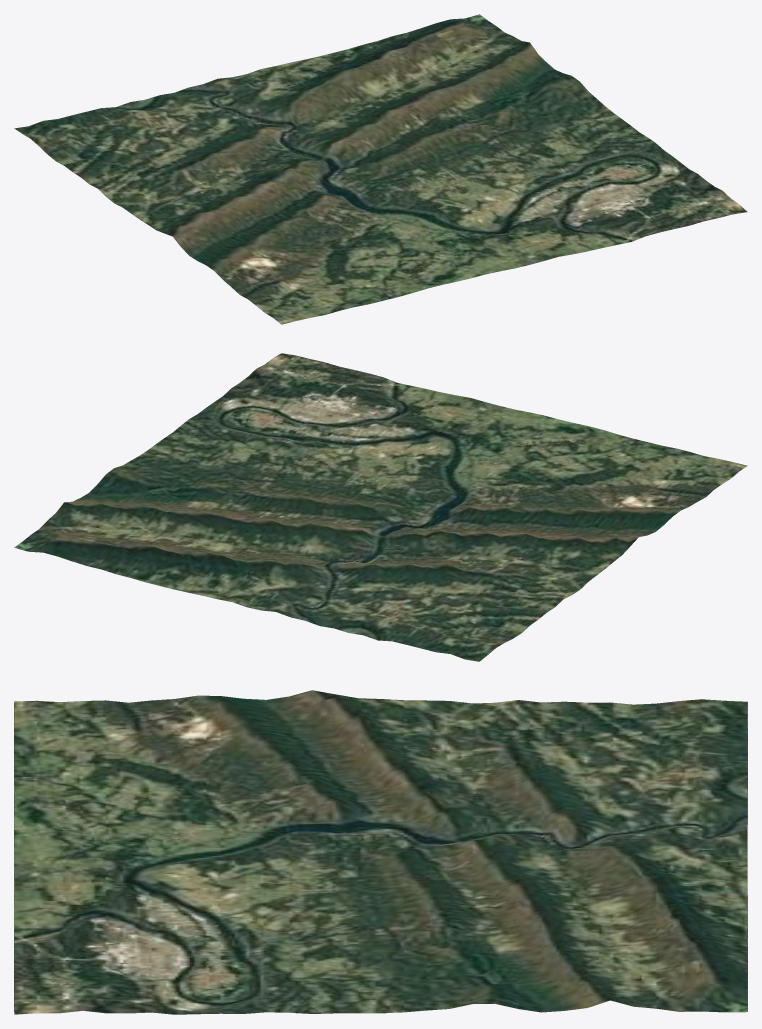
The picture shows the model from 3 angles, top to bottom: view 1: azimuth 30°, elevation 25°; view 2: azimuth 150°, elevation 25°; view 3: azimuth 270°, elevation 25°; orthographic projection. The views are drawn at different scales.
Size of the model in its own units: 15615 by 467 by 15538.
Materials: 1 (1 with a texture image).
